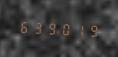nine: (44, 19, 56, 36), (83, 21, 95, 38)
one: (70, 20, 82, 38)
six: (17, 17, 29, 35)
three: (30, 18, 42, 36)
zero: (57, 19, 69, 37)
